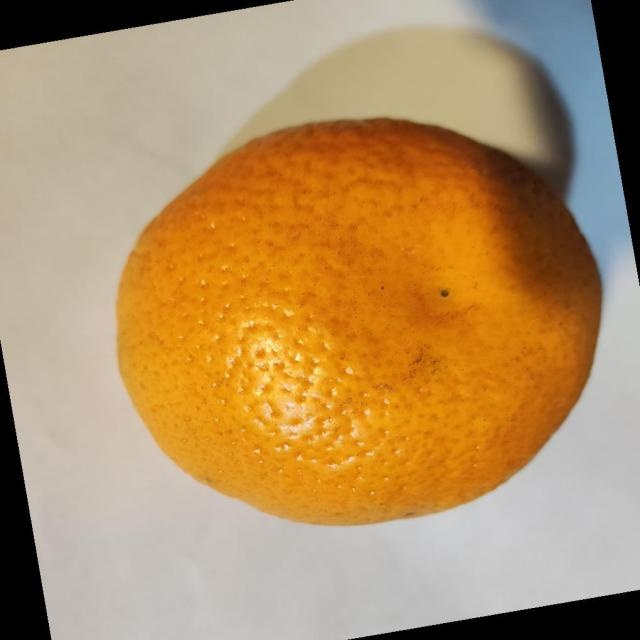agrume: (114, 115, 603, 526)
